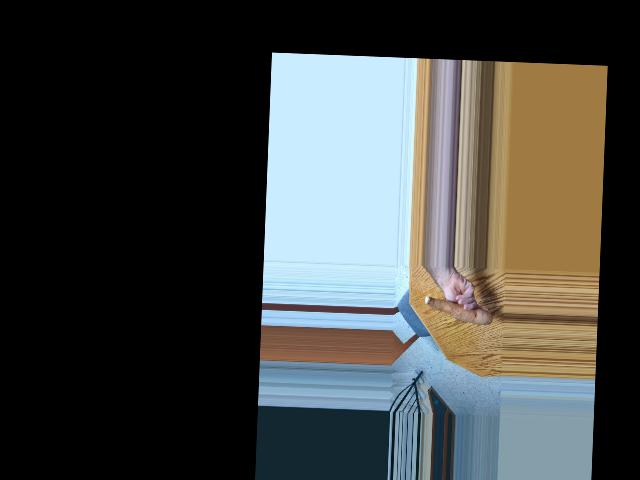sweet_potato: (422, 293, 492, 328)
